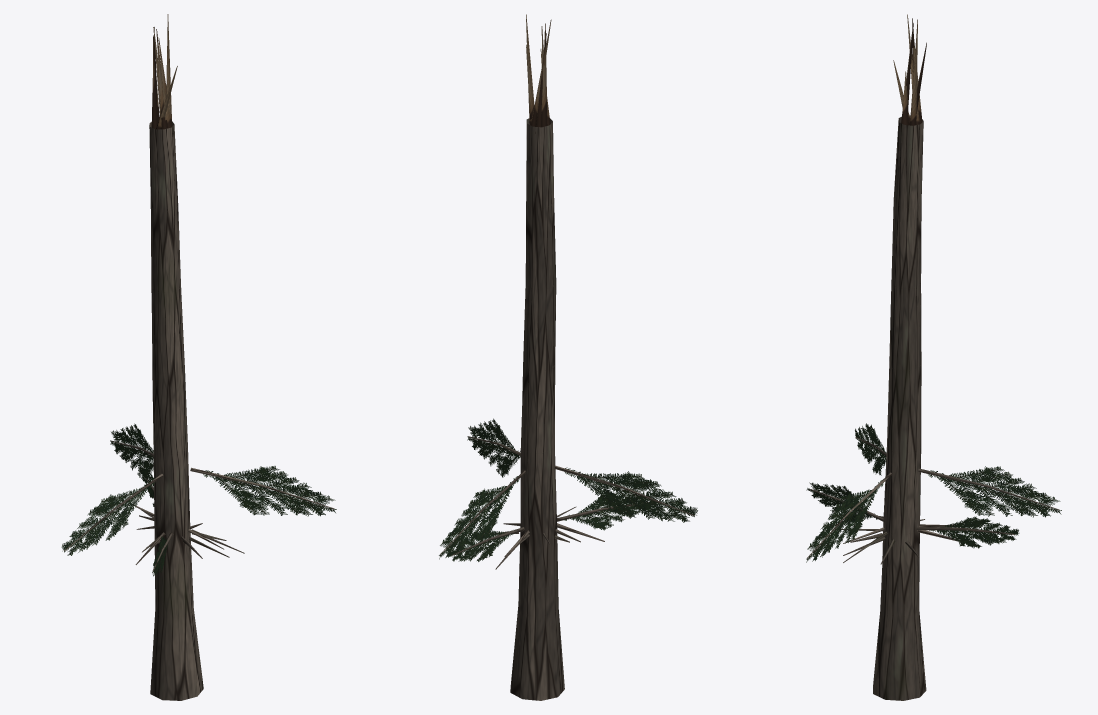
File: S7U_Spruce_Broken_B.fbx
3 views of the same model, side by side, from view 1: azimuth 30°, elevation 25°; view 2: azimuth 150°, elevation 25°; view 3: azimuth 270°, elevation 25° (orthographic).
Visible parts, largest first — view 1: S7U_Spruce_Broken_B; view 2: S7U_Spruce_Broken_B; view 3: S7U_Spruce_Broken_B.
Boxes of the visible parts, x1,y1,x2,y2 form: S7U_Spruce_Broken_B: (61, 14, 336, 700); S7U_Spruce_Broken_B: (439, 14, 697, 700); S7U_Spruce_Broken_B: (806, 14, 1061, 700).
Size of the model in its own units: 4.3 by 8.79 by 3.91.
